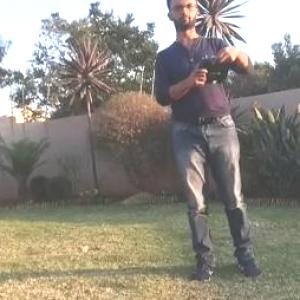follow: (154, 0, 272, 287)
